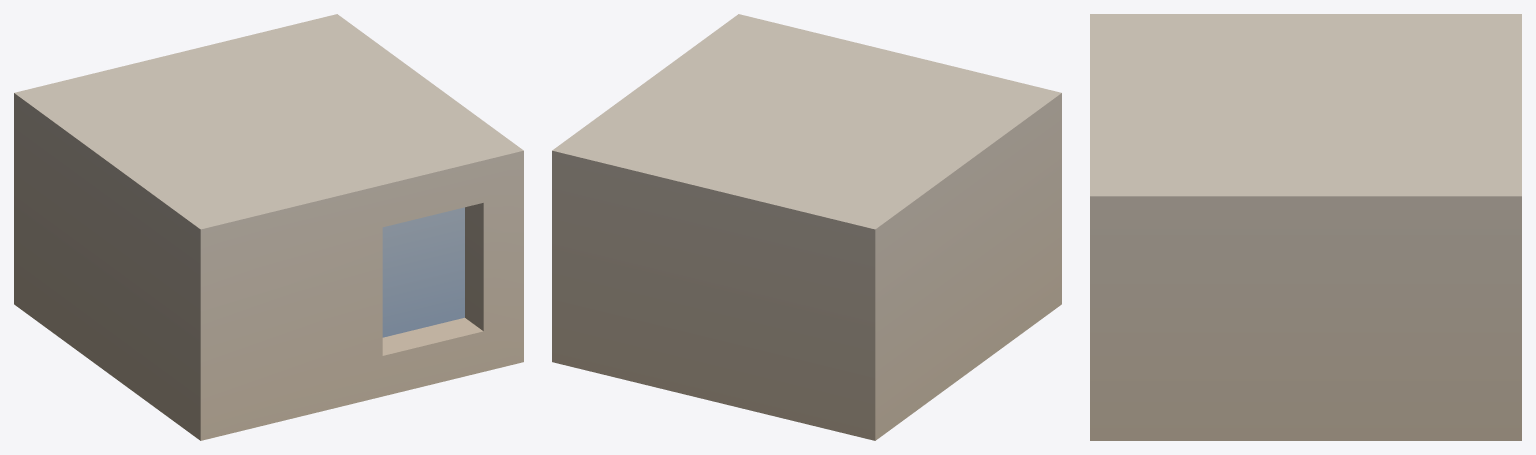
Rendered from building-window-right.glb.
The picture shows the model from 3 angles, left to right: view 1: azimuth 30°, elevation 25°; view 2: azimuth 150°, elevation 25°; view 3: azimuth 270°, elevation 25°; orthographic projection. The views are drawn at different scales.
Parts seen in each view (by area): view 1: building-window-right; view 2: building-window-right; view 3: building-window-right.
Part boxes in pixels (x1=…): building-window-right: x1=14, y1=14, x2=523, y2=440; building-window-right: x1=552, y1=14, x2=1061, y2=440; building-window-right: x1=1090, y1=14, x2=1521, y2=440.
Bounding box in the file's own units: 1 × 0.625 × 1.
